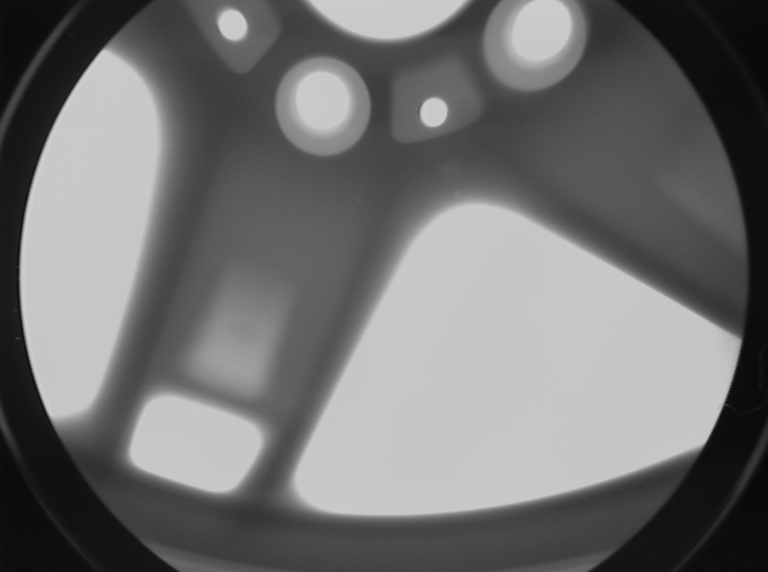defect: (351, 192, 364, 206)
